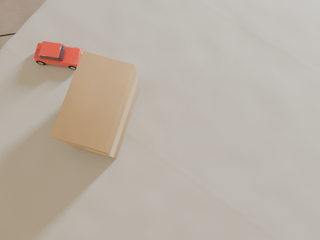box: (50, 51, 139, 159)
toy_car: (34, 41, 83, 70)
